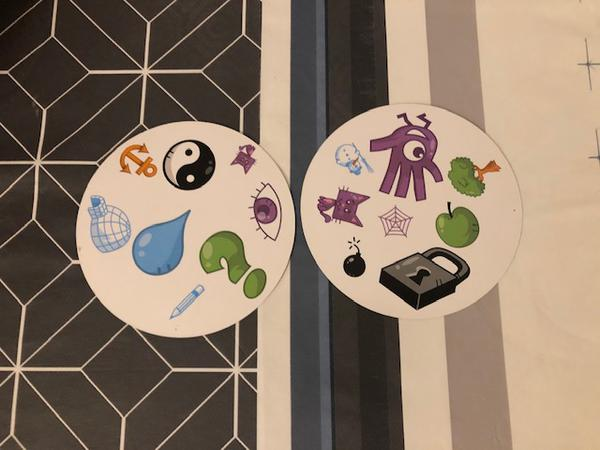arbre: (442, 149, 507, 201)
bonhomme_neige: (331, 139, 373, 182)
cadenas: (372, 234, 475, 312)
chat: (312, 181, 372, 228), (227, 134, 260, 172)
crayon: (169, 281, 206, 321)
dooble: (365, 105, 448, 203)
goutte: (126, 205, 193, 275)
igloo: (86, 193, 132, 251)
oeuil: (243, 174, 282, 244)
point_interrogation: (191, 228, 273, 303)
pomme: (428, 197, 481, 249)
toile: (373, 202, 413, 238)
ying_yang: (156, 137, 217, 190)
